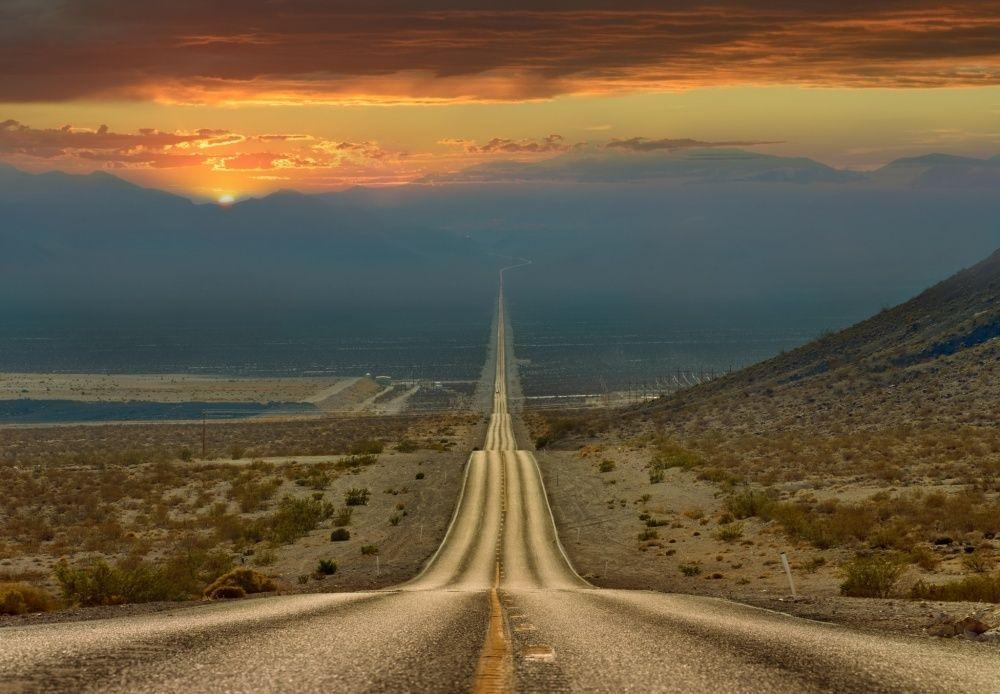cloud: (0, 84, 1000, 192)
